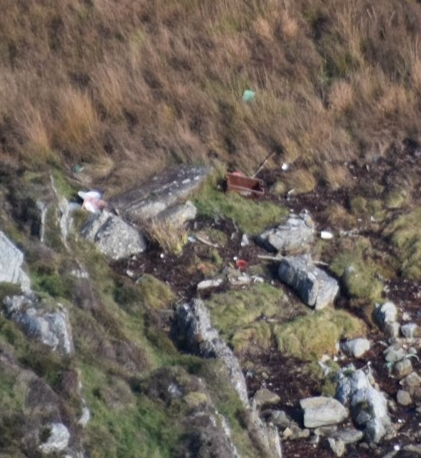cuboid: (216, 165, 270, 203)
white_in_green: (60, 169, 129, 231), (221, 69, 276, 118), (304, 212, 352, 256), (214, 248, 267, 287)
